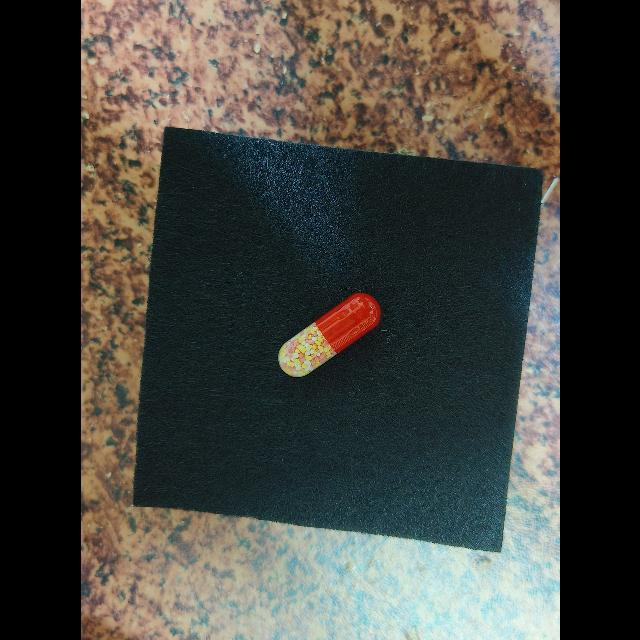Intact Capsule: (278, 292, 380, 377)
